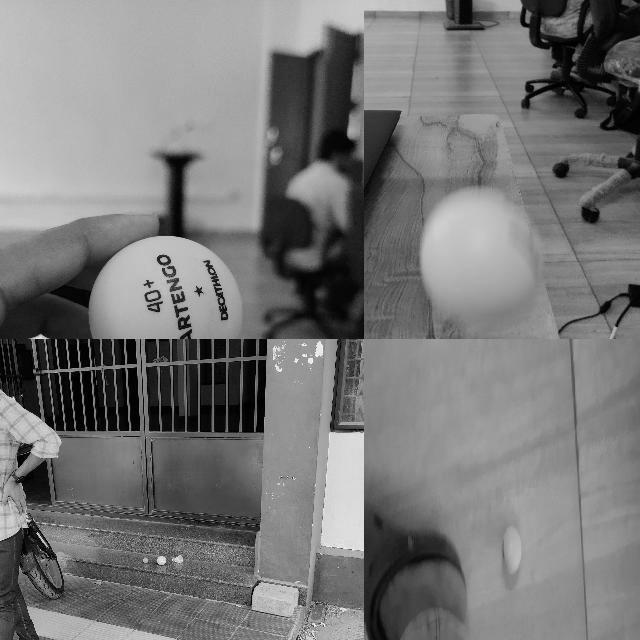ping-pong-ball: (420, 186, 538, 330), (86, 237, 242, 338), (502, 526, 521, 572), (142, 556, 148, 564)
